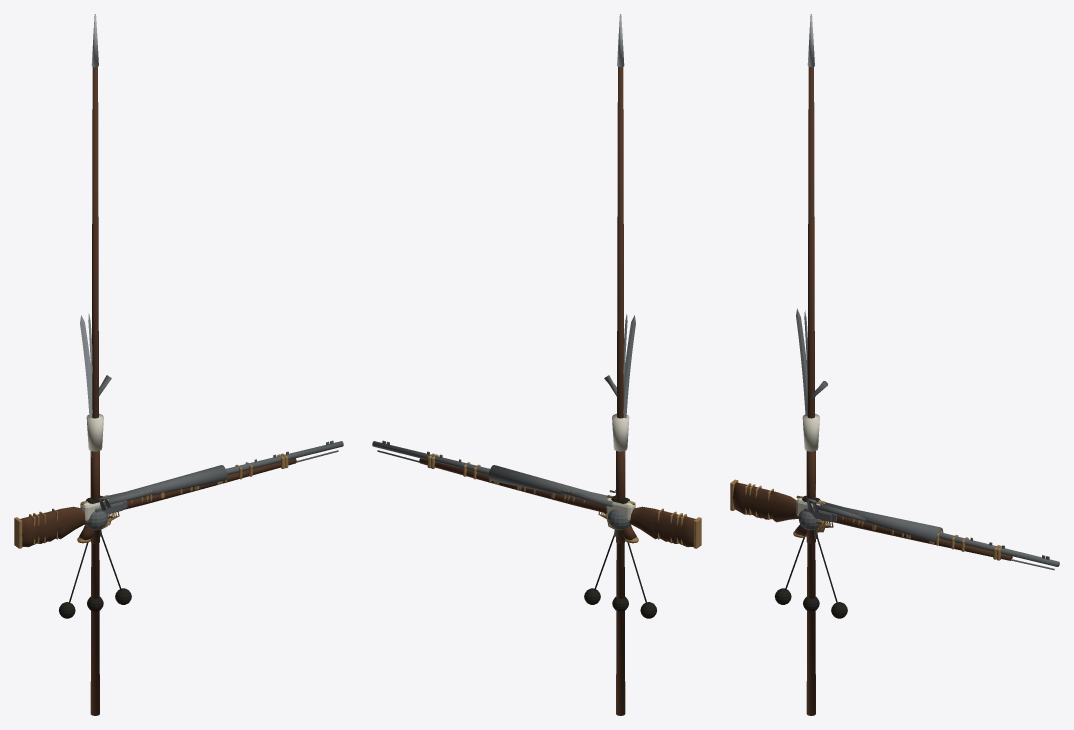
The model's file is equipment.glb.
3 renders of one model, left to right at view 1: azimuth 30°, elevation 25°; view 2: azimuth 150°, elevation 25°; view 3: azimuth 330°, elevation 25°, orthographic.
Parts seen in each view (by area): view 1: Lance_Shaft, item_1807_Rifle_Barrel, item_1800_Rifle_Walnut_Stock, Bolas_Cord, item_1800_Rifle_Barrel, Torch_Wood, item_1807_Rifle_Walnut_Stock, item_1809_Sabre_Curved_Blade, Wrapped_Torch; view 2: Lance_Shaft, item_1800_Rifle_Walnut_Stock, item_1807_Rifle_Barrel, Bolas_Cord, item_1800_Rifle_Barrel, Torch_Wood, item_1807_Rifle_Walnut_Stock, item_1809_Sabre_Curved_Blade, Wrapped_Torch; view 3: Lance_Shaft, item_1807_Rifle_Barrel, item_1800_Rifle_Walnut_Stock, item_1800_Rifle_Barrel, Bolas_Cord, item_1807_Rifle_Walnut_Stock, Torch_Wood, Wrapped_Torch, item_1809_Sabre_Curved_Blade.
Part boxes in pixels (x1,y1,x2,y2): Lance_Shaft: (90,66,99,715); item_1807_Rifle_Barrel: (99,465,227,513); item_1800_Rifle_Walnut_Stock: (20,458,296,547); Bolas_Cord: (59,535,131,618); item_1800_Rifle_Barrel: (95,440,343,514); Torch_Wood: (90,451,99,543); item_1807_Rifle_Walnut_Stock: (56,506,86,539); item_1809_Sabre_Curved_Blade: (80,315,92,456); Wrapped_Torch: (86,413,103,451); Lance_Shaft: (616,66,625,715); item_1800_Rifle_Walnut_Stock: (419,458,695,547); item_1807_Rifle_Barrel: (488,465,607,498); Bolas_Cord: (584,535,656,618); item_1800_Rifle_Barrel: (372,440,615,490); Torch_Wood: (616,451,625,543); item_1807_Rifle_Walnut_Stock: (595,506,659,539); item_1809_Sabre_Curved_Blade: (623,315,635,456); Wrapped_Torch: (612,413,629,451); Lance_Shaft: (806,67,815,715); item_1807_Rifle_Barrel: (806,498,943,542); item_1800_Rifle_Walnut_Stock: (731,482,1012,560); item_1800_Rifle_Barrel: (804,498,1059,570); Bolas_Cord: (774,537,847,618); item_1807_Rifle_Walnut_Stock: (771,491,834,522); Torch_Wood: (806,451,815,543); Wrapped_Torch: (802,413,819,451); item_1809_Sabre_Curved_Blade: (796,308,807,415).
Bounding box in the file's own units: 1.39 × 2.85 × 0.096.
